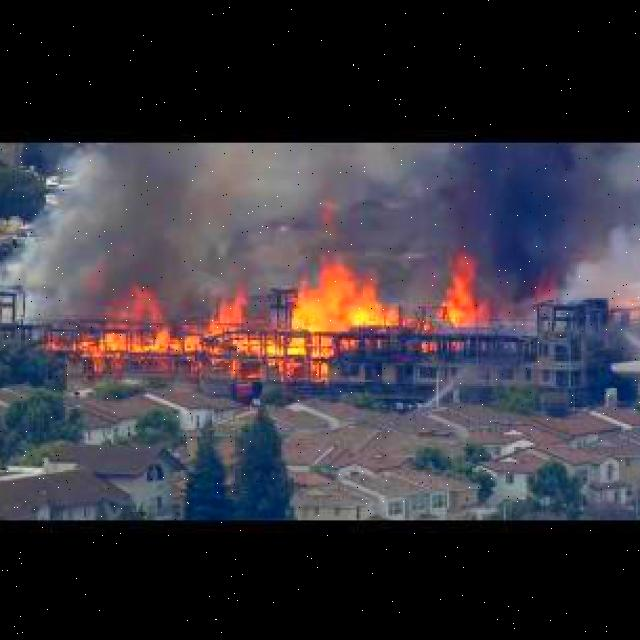fire: (52, 268, 500, 374)
smoke: (429, 134, 605, 298), (67, 142, 194, 319)
